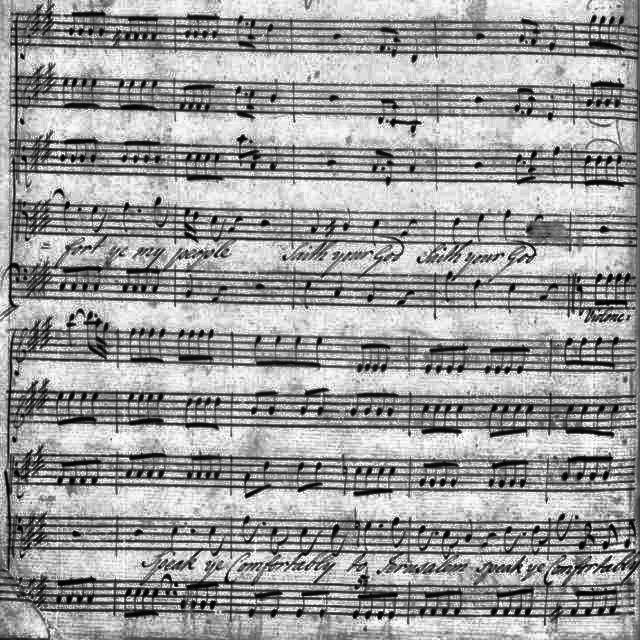Diez: (550, 603, 562, 629), (112, 28, 125, 50), (36, 576, 49, 596), (36, 511, 48, 531), (45, 18, 55, 40), (327, 218, 338, 238), (46, 60, 56, 80), (34, 444, 46, 460), (40, 215, 51, 232), (39, 378, 49, 396), (27, 381, 37, 399), (34, 532, 46, 546), (32, 67, 44, 81), (29, 262, 38, 280), (30, 202, 40, 218), (21, 452, 34, 464), (26, 514, 34, 532), (42, 333, 54, 345), (30, 138, 42, 150), (41, 275, 51, 289), (34, 4, 42, 20), (30, 338, 40, 350)
Eighth-note: (298, 526, 324, 554), (440, 528, 460, 560), (153, 196, 171, 230), (331, 523, 349, 557), (391, 516, 409, 550), (240, 514, 260, 544), (554, 512, 574, 542), (207, 526, 227, 554), (270, 526, 290, 554), (502, 526, 522, 554), (531, 524, 549, 554), (578, 522, 596, 550), (417, 522, 433, 552), (210, 215, 227, 243), (92, 204, 108, 233), (539, 282, 561, 302), (78, 389, 90, 423), (247, 590, 261, 618), (312, 336, 324, 368), (516, 344, 528, 376), (602, 524, 618, 548), (487, 404, 498, 438), (125, 389, 135, 426), (157, 326, 167, 362), (579, 402, 589, 438), (564, 402, 574, 438), (524, 404, 536, 434), (294, 462, 306, 492), (624, 519, 636, 549), (55, 390, 65, 426), (236, 131, 248, 159), (584, 588, 596, 616), (296, 590, 308, 618), (270, 590, 282, 618), (54, 578, 66, 606), (401, 219, 419, 237), (602, 454, 614, 481), (582, 154, 592, 186), (396, 290, 416, 306), (210, 286, 230, 302), (253, 334, 263, 366), (595, 404, 605, 436), (512, 403, 522, 435), (353, 464, 363, 496), (377, 590, 387, 622), (484, 461, 496, 487), (242, 470, 254, 496), (609, 588, 621, 614), (593, 337, 603, 368), (422, 346, 433, 374), (318, 590, 329, 618), (272, 335, 282, 365), (381, 343, 391, 373), (457, 344, 467, 374), (261, 459, 271, 489), (389, 590, 399, 620), (190, 580, 200, 610), (562, 456, 574, 480), (480, 530, 496, 548), (490, 591, 502, 615), (214, 396, 222, 432), (618, 15, 626, 50), (292, 336, 302, 364), (446, 346, 456, 374), (494, 346, 504, 374), (563, 338, 573, 366), (578, 337, 588, 365), (577, 454, 587, 482), (387, 465, 397, 493), (147, 451, 157, 479), (597, 587, 607, 615), (570, 588, 580, 616), (525, 588, 535, 616), (180, 581, 190, 609), (300, 388, 310, 416), (228, 215, 244, 232), (138, 327, 146, 361), (176, 328, 184, 362), (610, 403, 618, 437), (68, 389, 76, 423), (150, 78, 158, 112), (589, 454, 599, 481), (363, 465, 372, 495), (376, 389, 386, 416), (89, 78, 98, 108), (588, 15, 596, 48), (156, 391, 164, 424), (57, 459, 67, 485), (419, 590, 429, 616), (353, 593, 363, 619), (363, 390, 373, 416), (236, 15, 244, 47), (616, 154, 624, 186), (605, 154, 613, 186), (184, 150, 192, 182), (624, 272, 632, 304), (614, 272, 622, 304), (605, 273, 613, 305), (594, 274, 602, 306), (128, 328, 136, 360), (610, 336, 618, 368), (500, 404, 508, 436), (133, 586, 141, 618), (124, 588, 132, 620), (146, 392, 154, 424), (204, 396, 212, 428), (61, 76, 69, 108), (70, 77, 78, 109), (126, 78, 134, 110), (140, 78, 148, 110), (498, 460, 507, 488), (439, 460, 448, 488), (419, 459, 428, 487), (442, 588, 451, 616), (234, 85, 242, 116), (514, 153, 522, 184), (208, 328, 216, 359), (520, 457, 528, 488), (598, 16, 606, 46), (356, 343, 364, 373), (372, 342, 380, 372), (436, 345, 444, 375), (484, 345, 492, 375), (506, 345, 514, 375), (456, 404, 464, 434), (509, 458, 517, 488), (210, 580, 218, 610), (200, 581, 208, 611), (251, 392, 261, 416), (268, 390, 278, 414), (432, 403, 440, 433), (452, 461, 461, 487), (503, 590, 512, 616), (388, 391, 397, 417), (443, 403, 451, 432), (87, 311, 93, 349), (142, 13, 150, 41), (150, 14, 158, 42), (212, 12, 220, 40), (378, 25, 386, 53), (596, 80, 604, 108), (594, 156, 602, 184), (194, 152, 202, 180), (91, 134, 99, 162), (70, 136, 78, 164), (188, 328, 195, 360), (364, 344, 372, 372), (430, 460, 438, 488), (377, 466, 385, 494), (214, 452, 222, 480), (196, 452, 204, 480), (186, 452, 194, 480), (159, 450, 167, 478), (70, 458, 78, 486), (514, 588, 522, 616), (455, 588, 463, 616), (366, 592, 374, 620), (142, 588, 150, 616), (88, 576, 96, 604), (318, 387, 326, 415), (204, 84, 212, 112), (214, 153, 222, 180), (204, 153, 212, 180), (204, 454, 212, 481), (125, 452, 134, 476), (432, 592, 441, 616), (349, 392, 358, 416), (78, 10, 86, 36), (88, 11, 96, 37), (98, 10, 106, 36), (202, 13, 210, 39), (615, 81, 623, 107), (606, 81, 614, 107), (378, 98, 386, 124), (372, 148, 380, 174), (154, 138, 162, 164), (121, 137, 129, 163), (80, 136, 88, 162), (94, 266, 102, 292), (136, 453, 144, 479), (92, 459, 100, 485), (80, 459, 88, 485), (78, 578, 86, 604), (148, 327, 154, 361), (61, 136, 68, 164), (198, 329, 205, 357), (68, 12, 76, 36), (184, 14, 192, 38), (608, 16, 614, 48), (586, 82, 594, 106), (513, 86, 521, 110), (144, 140, 152, 164), (133, 138, 141, 162), (152, 268, 160, 292), (132, 268, 140, 292), (122, 268, 130, 292), (82, 266, 90, 290), (72, 266, 80, 290), (60, 266, 68, 290), (138, 392, 144, 424), (195, 396, 201, 428), (119, 78, 125, 110), (185, 397, 191, 427), (80, 77, 86, 107), (422, 403, 428, 432), (152, 588, 158, 616), (68, 576, 74, 604), (196, 83, 202, 111), (134, 14, 140, 41), (316, 459, 322, 486), (193, 13, 199, 39), (519, 17, 525, 43), (142, 266, 148, 292), (181, 84, 187, 110), (126, 15, 132, 40), (190, 83, 194, 111)
Full-rest: (70, 529, 82, 539)
Half-rest: (598, 222, 618, 236), (326, 92, 342, 108), (132, 527, 148, 541), (327, 157, 341, 171), (259, 218, 273, 230), (476, 30, 490, 42), (472, 158, 488, 168), (332, 32, 344, 44), (474, 94, 484, 106), (256, 282, 266, 290)
Quarter-note: (550, 145, 562, 185), (548, 22, 562, 54), (410, 98, 422, 134), (474, 212, 488, 240), (121, 197, 131, 236), (266, 22, 278, 54), (410, 34, 422, 66), (450, 216, 462, 248), (62, 200, 74, 232), (302, 278, 314, 310), (501, 207, 513, 237), (507, 281, 519, 311), (168, 524, 180, 554), (66, 312, 76, 346), (546, 98, 558, 126), (332, 270, 344, 298), (472, 276, 482, 308), (270, 145, 282, 171), (443, 270, 452, 302), (342, 205, 353, 231), (310, 207, 320, 235), (183, 272, 193, 300), (407, 148, 418, 172), (270, 77, 280, 103), (371, 220, 381, 244), (465, 516, 473, 546), (364, 520, 372, 548), (366, 280, 374, 304)
Sixteenth-note: (390, 24, 402, 64), (526, 84, 538, 116), (528, 149, 540, 181), (391, 95, 401, 128), (181, 206, 191, 238), (531, 16, 541, 46), (248, 148, 260, 172), (192, 208, 200, 244), (249, 20, 259, 48), (386, 152, 394, 186), (248, 88, 256, 120)
Treble-clef: (13, 392, 27, 448), (18, 17, 34, 63), (15, 329, 28, 375), (20, 74, 30, 126)
